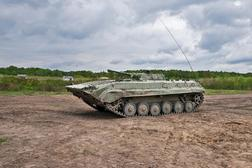bmp: (67, 68, 214, 118)
